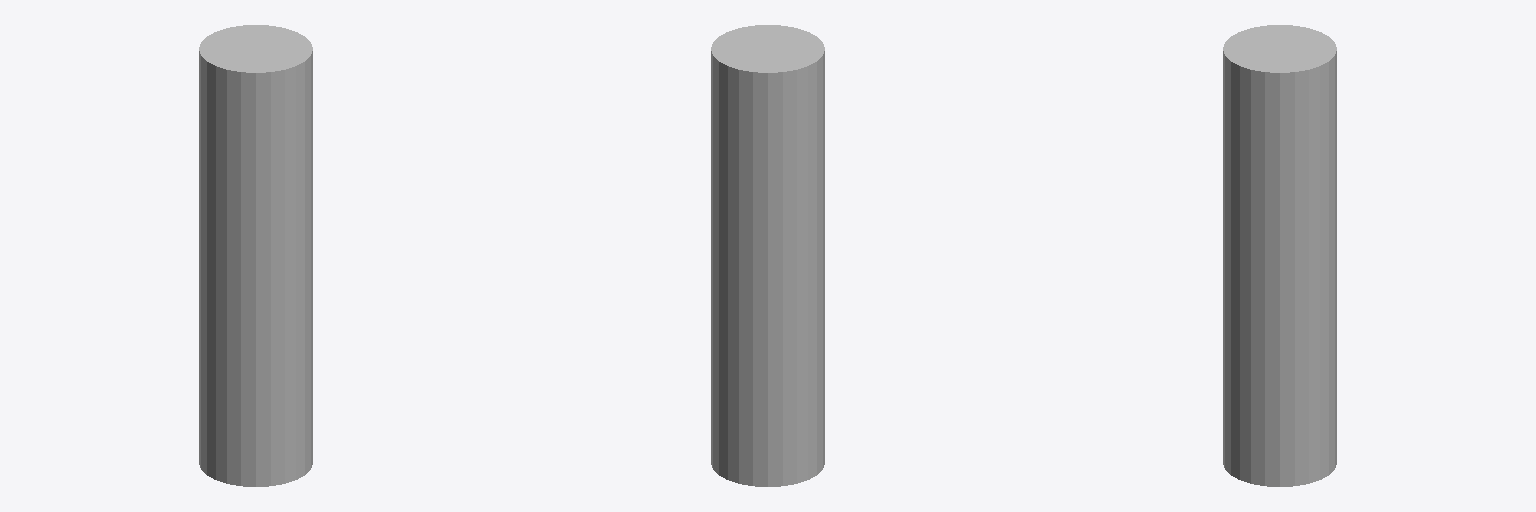
The model's file is Cannon.obj.
3 renders of one model, left to right at view 1: azimuth 30°, elevation 25°; view 2: azimuth 150°, elevation 25°; view 3: azimuth 270°, elevation 25°, orthographic.
Parts seen in each view (by area): view 1: Mesh1 Model; view 2: Mesh1 Model; view 3: Mesh1 Model.
Part boxes in pixels (bbox=[...]): Mesh1 Model: bbox=[199, 25, 312, 486]; Mesh1 Model: bbox=[711, 25, 824, 486]; Mesh1 Model: bbox=[1223, 25, 1336, 486].
Size of the model in its own units: 10 by 40 by 10.